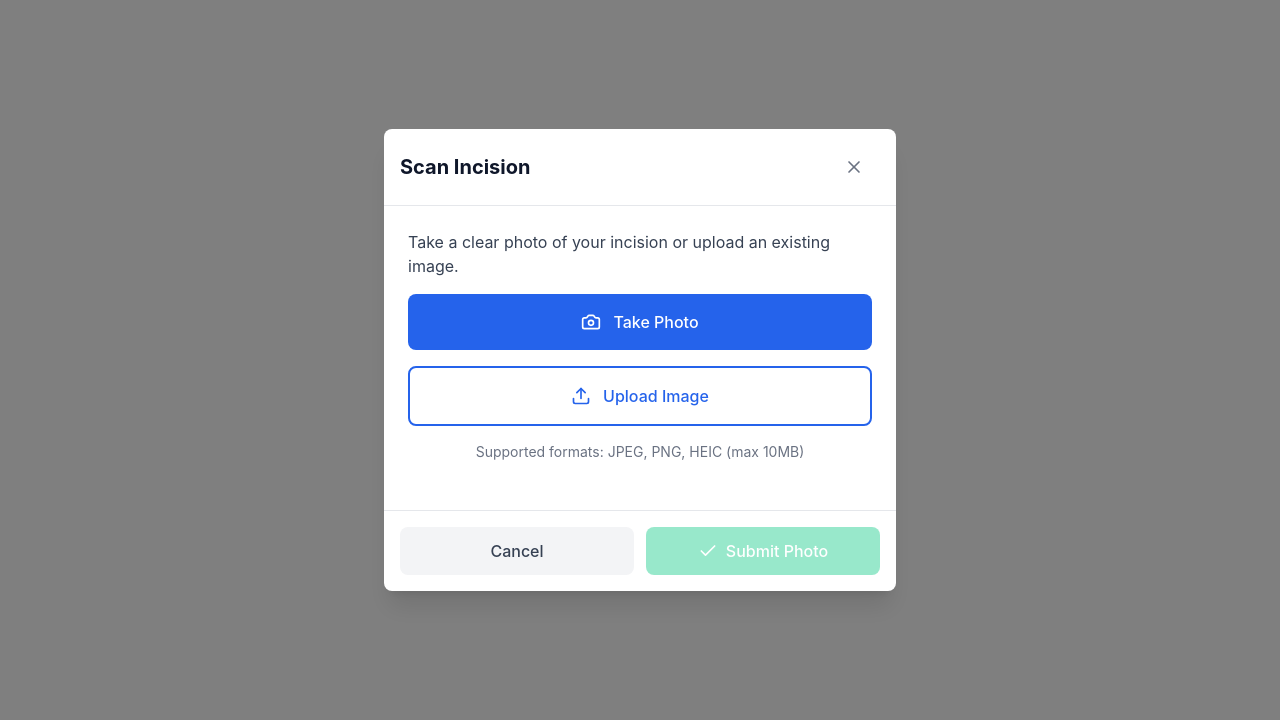
Test: PhotoCaptureModal › Camera Access Errors › should show error when no camera is found
Click the button with aria-label "Open camera to take photo". click: [640, 322]
box: [408,294,872,350]
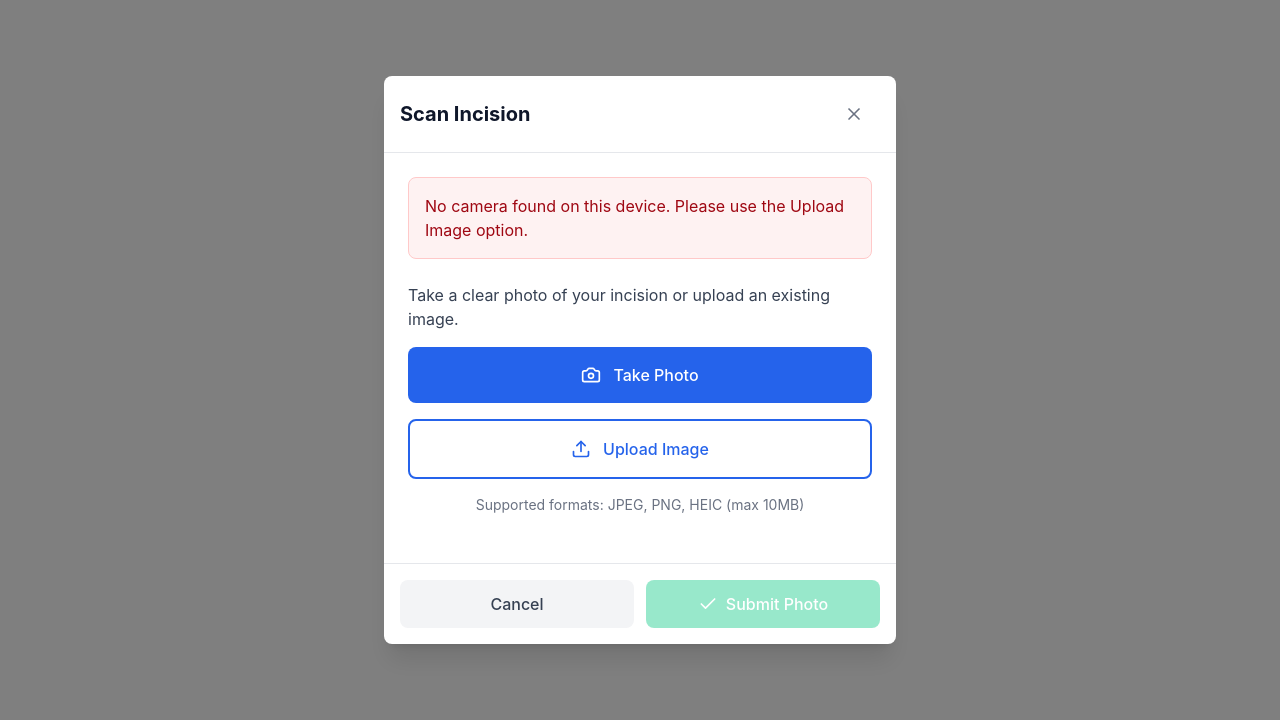
Expected: the text "No camera found on this device. Please use the Upload Image option." is shown, [408,177,872,259]
